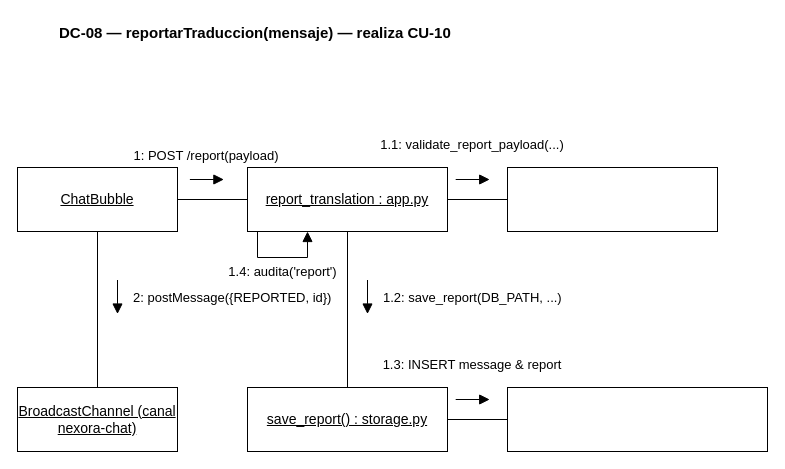
The diagram is 785 pixels wide and 469 high, and some of its shapes have lost their labels. Each missing label, with the centre of its shape:
"data/lsa_salud.db (reported_message, translation_report)" goes at [637,419].
"validate_report_payload() : capture_validation.py" goes at [612,199].
